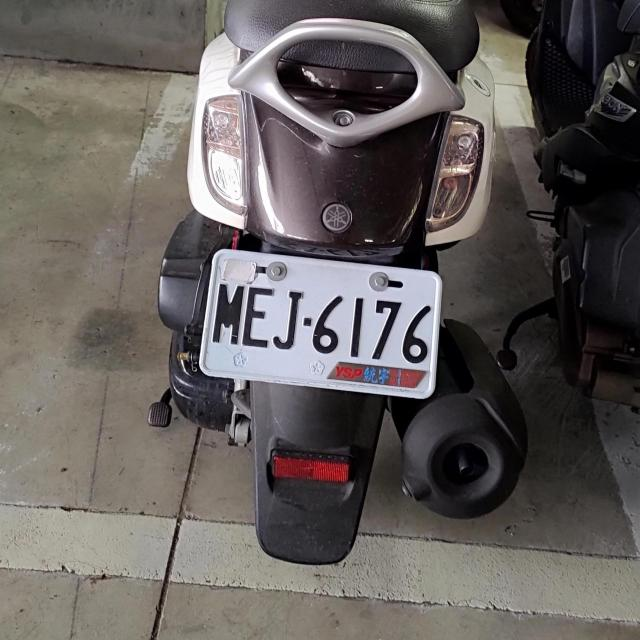W: (196, 248, 444, 397)
